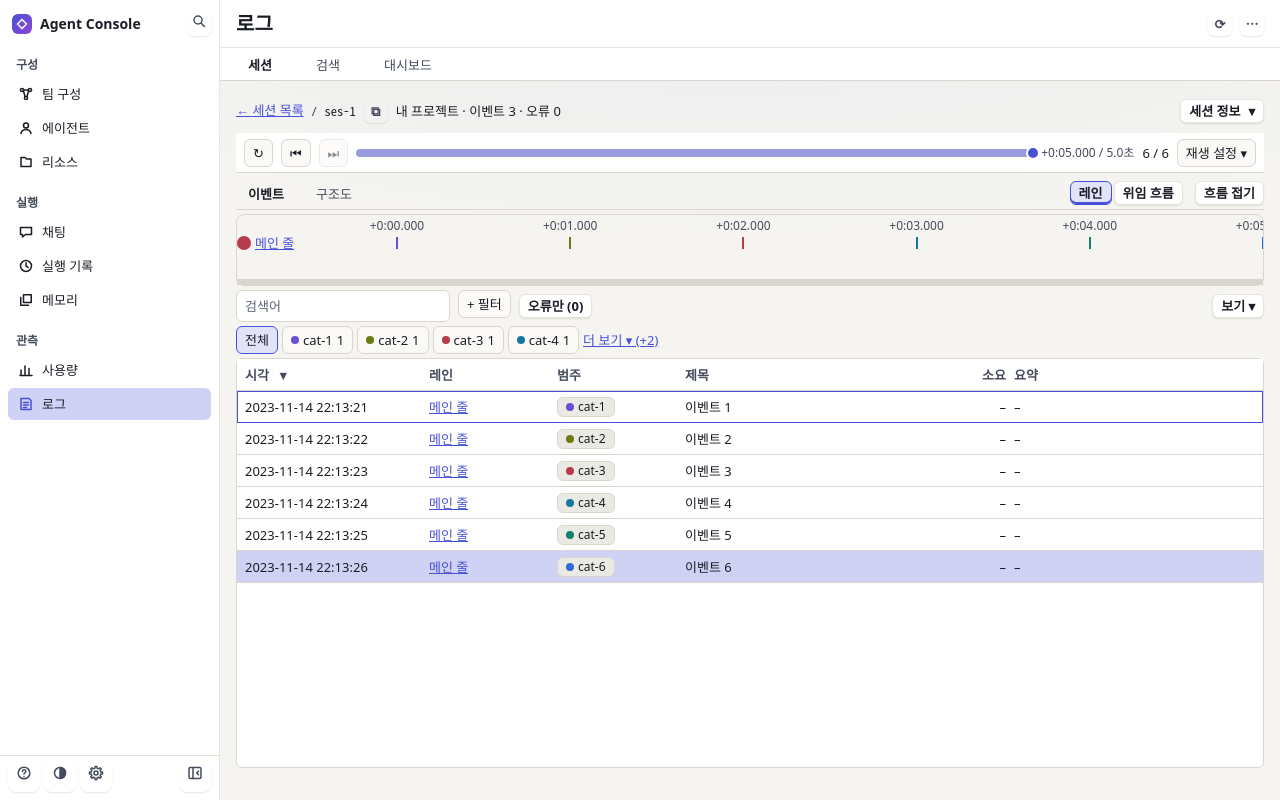
로그 화면: 기능이 줄어든 자리에서 닿는다(AC-1·AC-3) › [세션 정보]에 모델·토큰(분해)·시작·길이·에이전트 수·전체 id가 있고 I 키로도 열린다
Expected: the slider is shown, top-left (356, 146), bottom-right (1040, 160)
Click the button "세션 정보 ▾": x=1222, y=111 top-left (1180, 99), bottom-right (1264, 123)
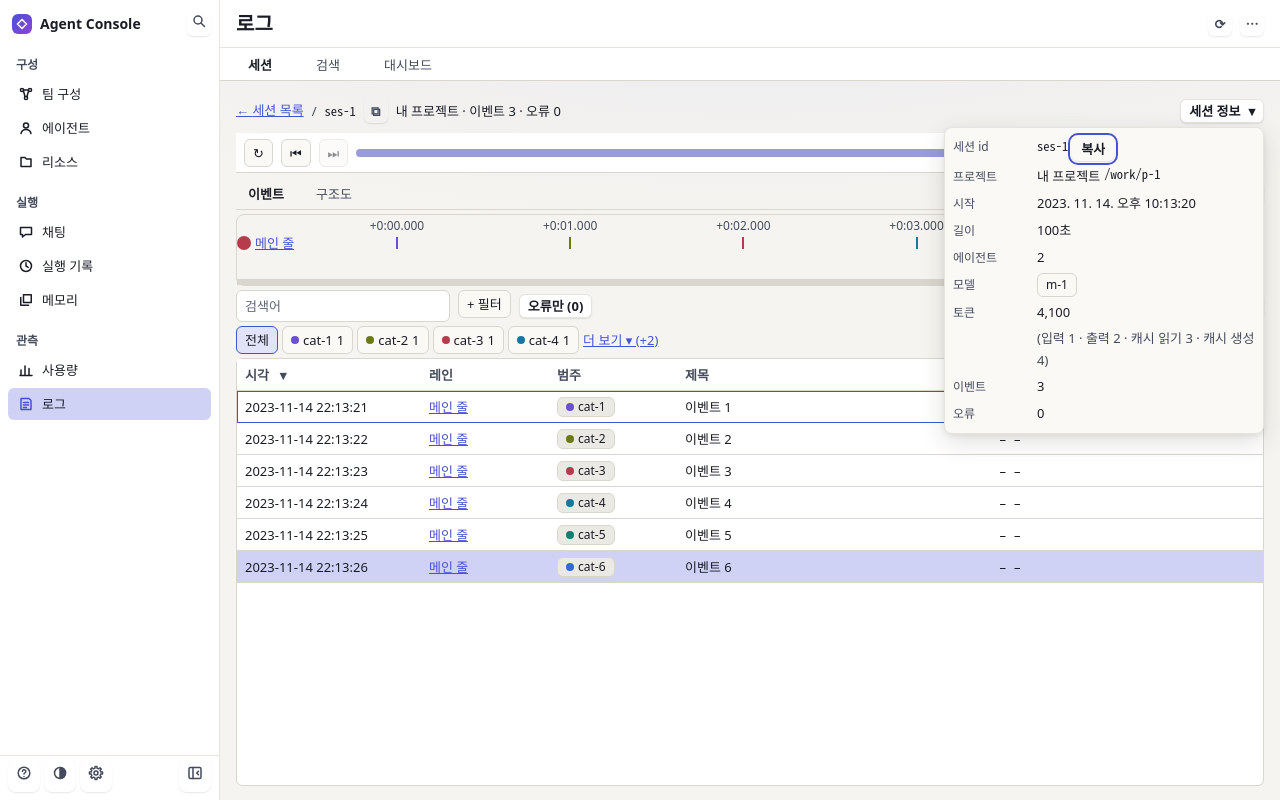
Expected: the dialog named "세션 정보" shows "ses-1", top-left (1037, 136), bottom-right (1068, 155)
Expected: the dialog named "세션 정보" shows "m-1", top-left (1046, 276), bottom-right (1068, 293)
Expected: the dialog named "세션 정보" shows "4,100", top-left (1037, 303), bottom-right (1070, 321)
Press Escape in the dialog named "세션 정보", box top-left (944, 127), bottom-right (1264, 434)
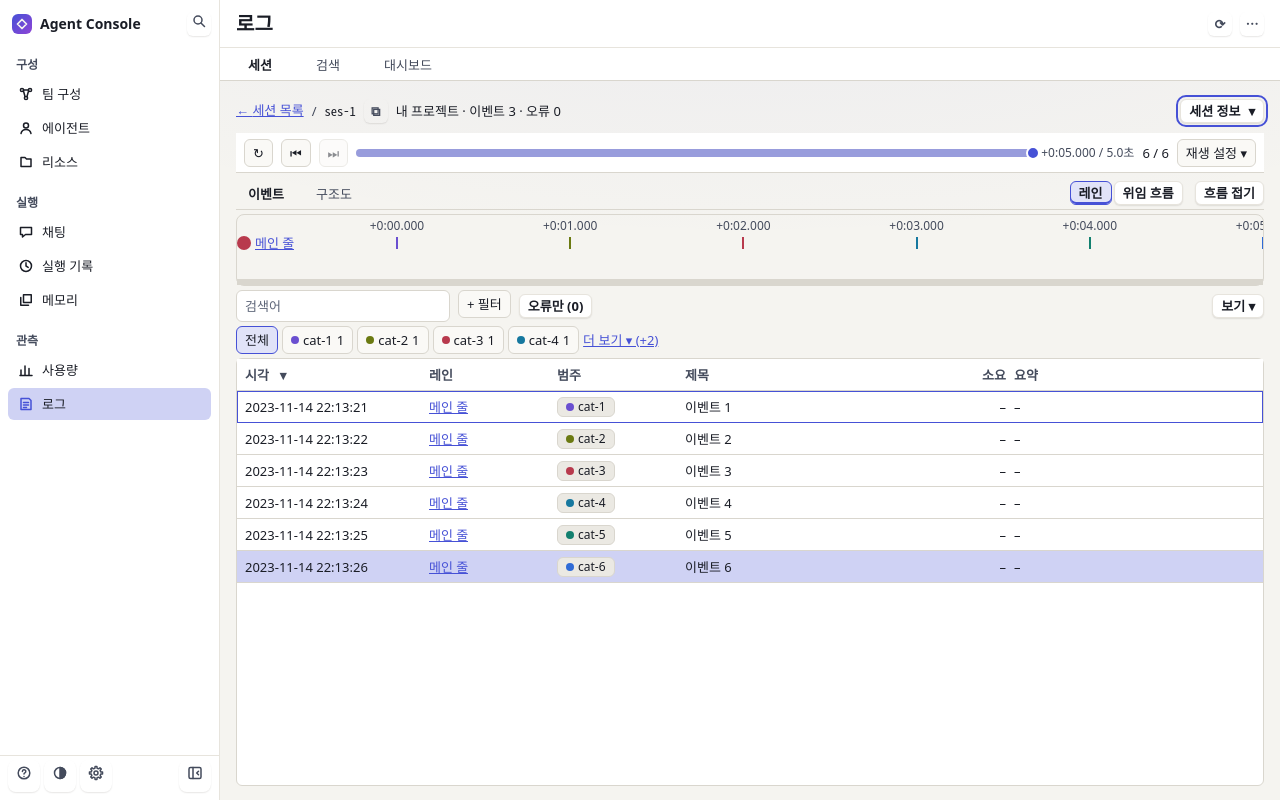
Press i
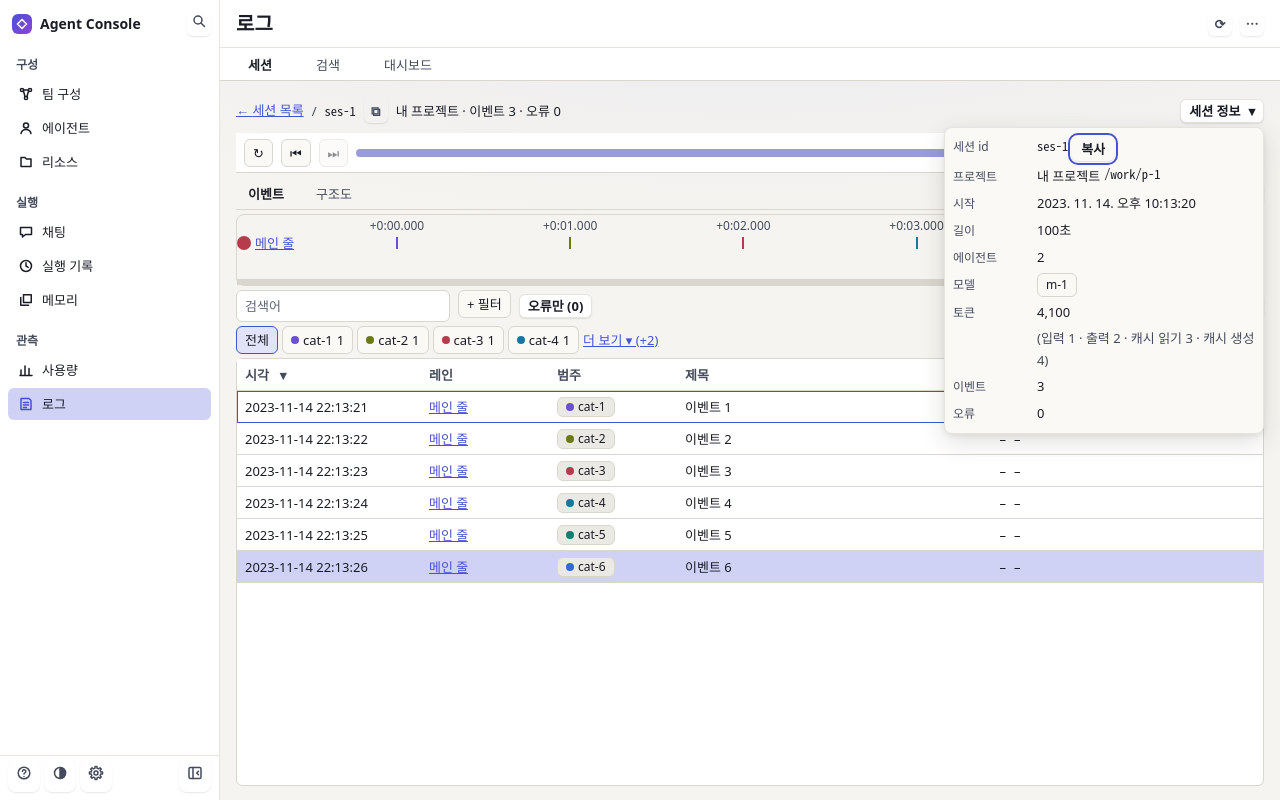
Expected: the dialog named "세션 정보" is shown, top-left (944, 127), bottom-right (1264, 434)
